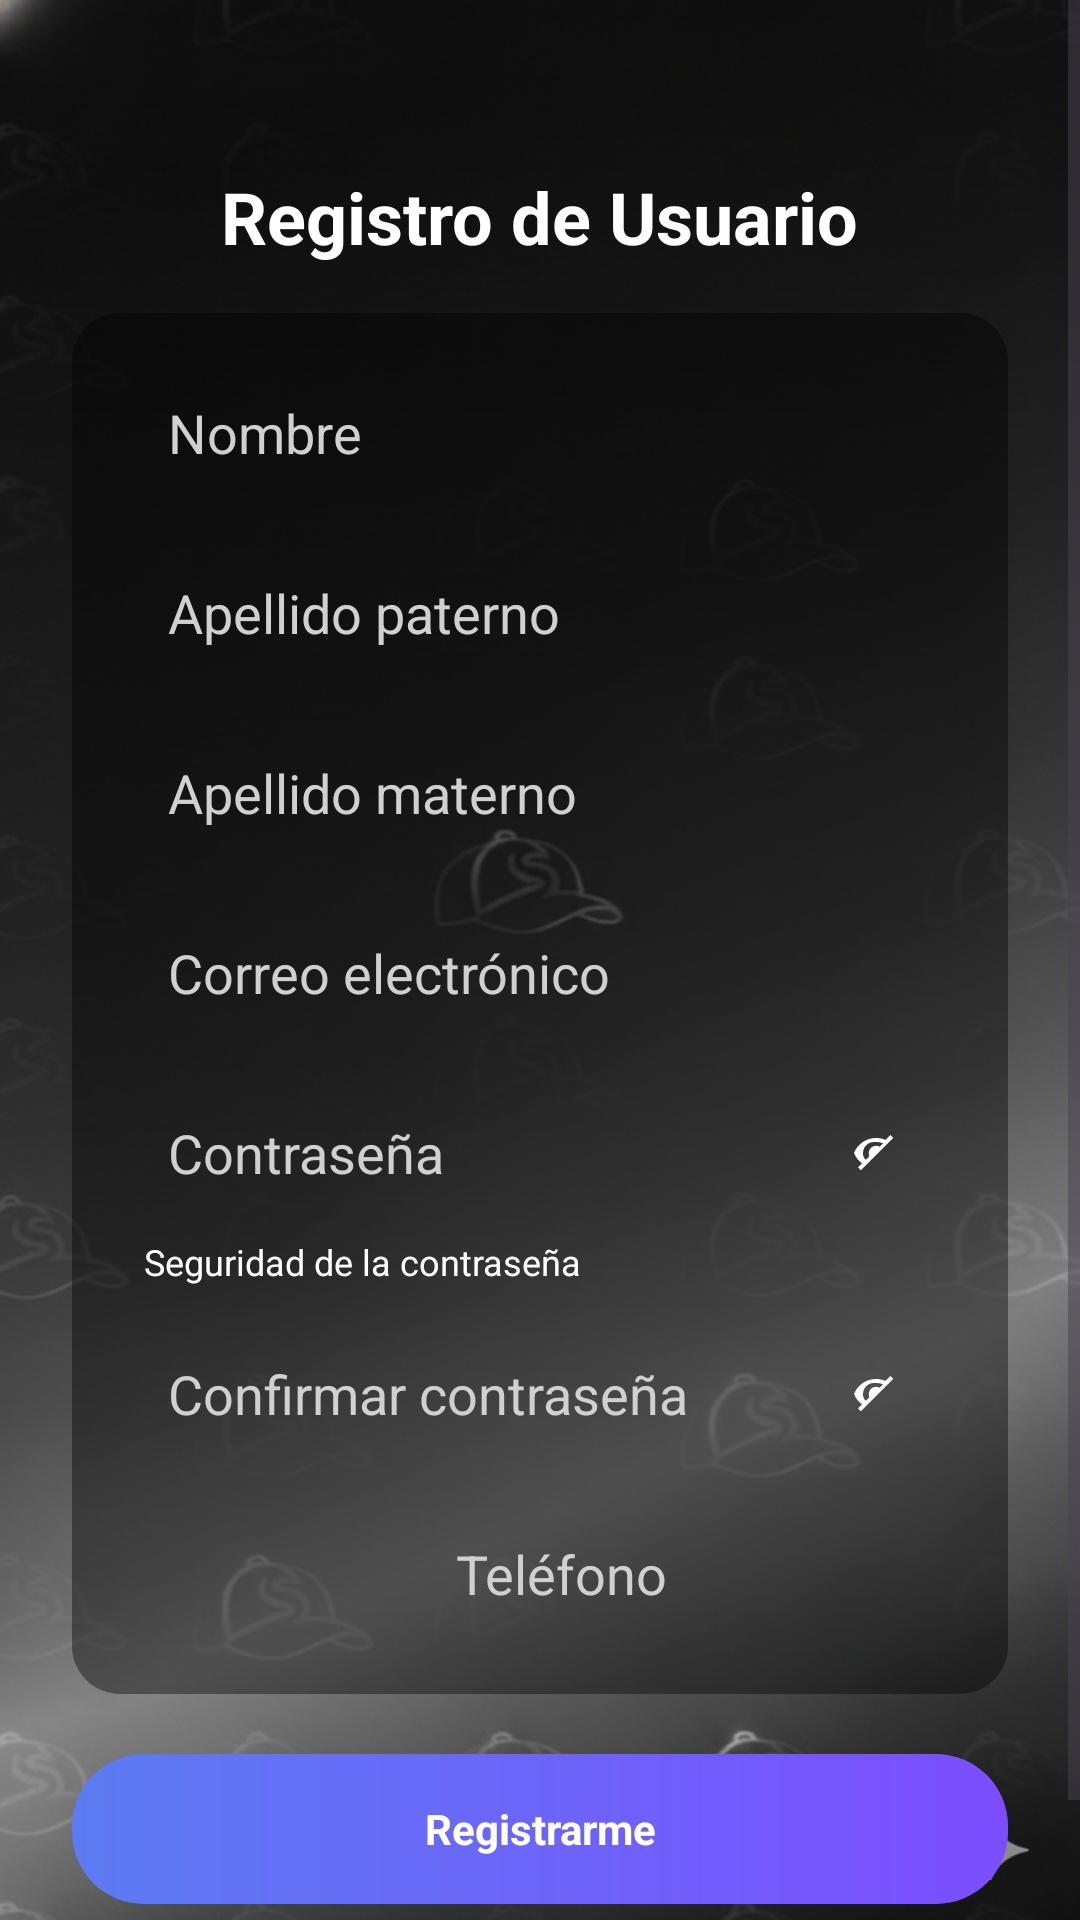

Where to tap for icons on this 1080 × 1920 app screen, as (x,y):
visibility off: (873,1152), (873,1393)
